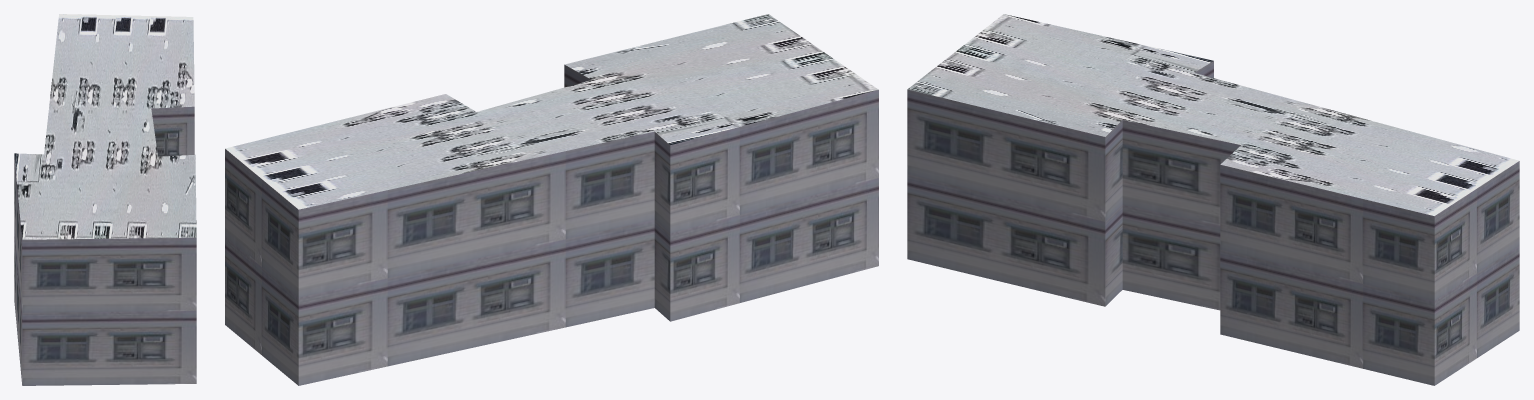
The model's file is ResTex__3645.fbx.
The picture shows the model from 3 angles, left to right: view 1: azimuth 30°, elevation 25°; view 2: azimuth 150°, elevation 25°; view 3: azimuth 270°, elevation 25°; orthographic projection. The views are drawn at different scales.
Visible parts, largest first — view 1: CityEngineMaterial_2_m, CityEngineMaterial_1_m; view 2: CityEngineMaterial_1_m, CityEngineMaterial_2_m; view 3: CityEngineMaterial_1_m, CityEngineMaterial_2_m.
Part boxes in pixels (box(x1,y1,x2,y2)): CityEngineMaterial_2_m: box(14, 14, 196, 239); CityEngineMaterial_1_m: box(14, 106, 196, 385); CityEngineMaterial_1_m: box(225, 64, 878, 385); CityEngineMaterial_2_m: box(225, 14, 878, 209); CityEngineMaterial_1_m: box(907, 61, 1519, 385); CityEngineMaterial_2_m: box(907, 14, 1519, 215).
Size of the model in its own units: 15.32 by 6 by 19.61.
Materials: 2 (2 with a texture image).
